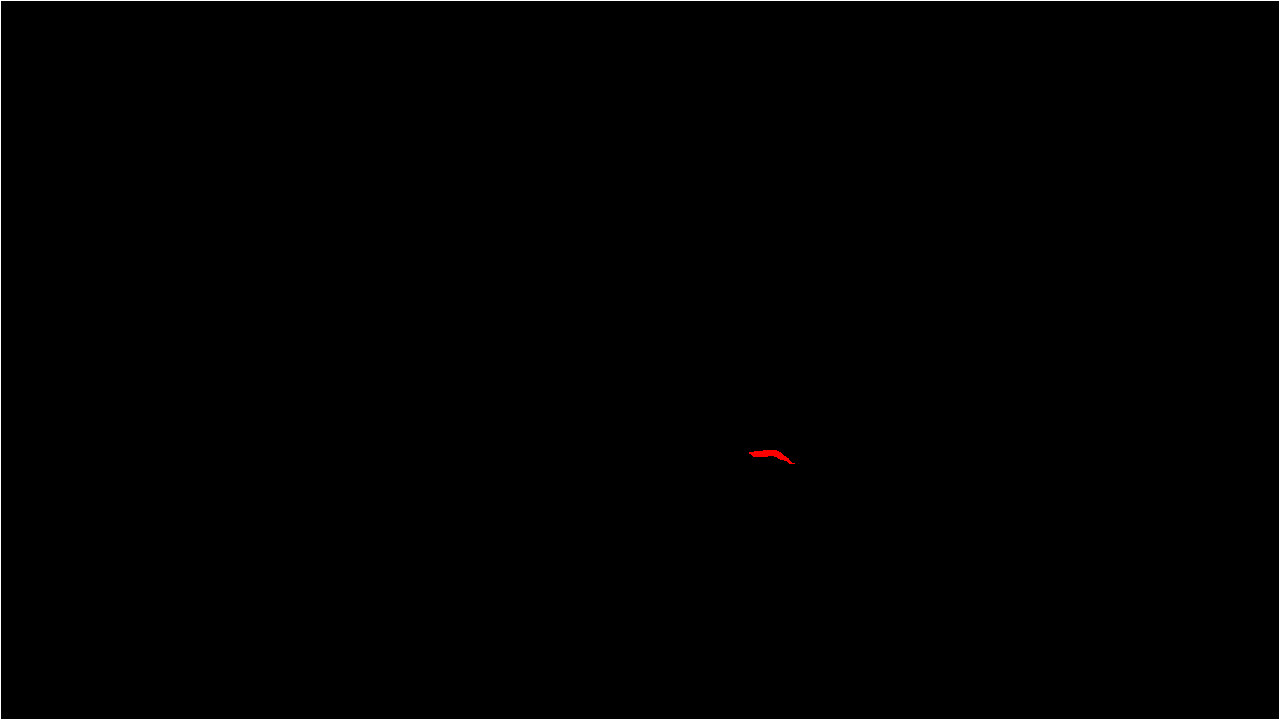drone: (724, 428, 810, 478)
